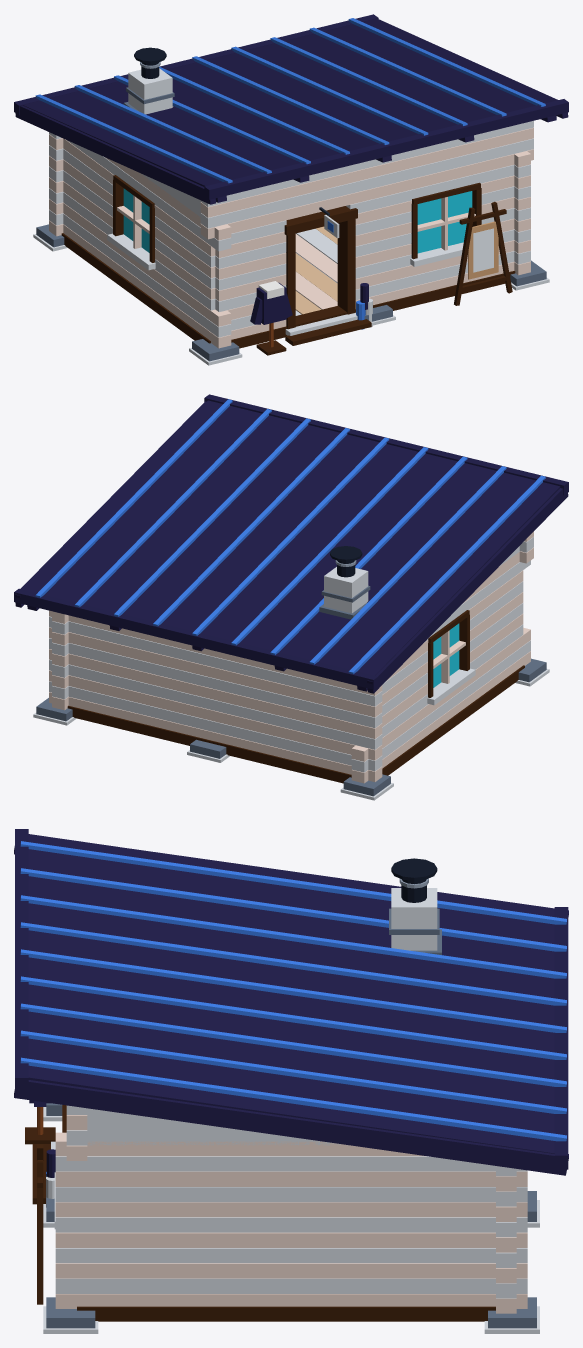
The model's file is clothing_shop.fbx.
The picture shows the model from 3 angles, top to bottom: view 1: azimuth 30°, elevation 25°; view 2: azimuth 150°, elevation 25°; view 3: azimuth 270°, elevation 25°; orthographic projection. The views are drawn at different scales.
Parts seen in each view (by area): view 1: ClothingShop_SinglePitchRoof, ClothingShop_TimberWalls, ClothingShop_Windows, ClothingShop_Foundation, ClothingShop_ThematicProps, ClothingShop_DoorFrame, ClothingShop_PlankFloor, ClothingShop_Chimney; view 2: ClothingShop_SinglePitchRoof, ClothingShop_TimberWalls, ClothingShop_Foundation, ClothingShop_Windows, ClothingShop_Chimney; view 3: ClothingShop_SinglePitchRoof, ClothingShop_TimberWalls, ClothingShop_Foundation, ClothingShop_Chimney, ClothingShop_ThematicProps.
Part boxes in pixels (left/top/right/bottom): ClothingShop_SinglePitchRoof: left=14, top=14, right=568, bottom=204; ClothingShop_TimberWalls: left=49, top=120, right=533, bottom=348; ClothingShop_Windows: left=107, top=175, right=481, bottom=270; ClothingShop_Foundation: left=33, top=224, right=549, bottom=365; ClothingShop_ThematicProps: left=250, top=201, right=512, bottom=355; ClothingShop_DoorFrame: left=284, top=206, right=371, bottom=345; ClothingShop_PlankFloor: left=295, top=226, right=337, bottom=315; ClothingShop_Chimney: left=123, top=47, right=174, bottom=114; ClothingShop_SinglePitchRoof: left=14, top=394, right=568, bottom=693; ClothingShop_TimberWalls: left=49, top=531, right=533, bottom=783; ClothingShop_Foundation: left=33, top=658, right=549, bottom=800; ClothingShop_Windows: left=427, top=610, right=475, bottom=705; ClothingShop_Chimney: left=319, top=546, right=370, bottom=619; ClothingShop_SinglePitchRoof: left=14, top=829, right=568, bottom=1175; ClothingShop_TimberWalls: left=55, top=1105, right=527, bottom=1313; ClothingShop_Foundation: left=43, top=1103, right=539, bottom=1333; ClothingShop_Chimney: left=389, top=858, right=441, bottom=954; ClothingShop_ThematicProps: left=25, top=1100, right=55, bottom=1304.
Bounding box in the file's own units: 19.2 × 10.2 × 18.1.
